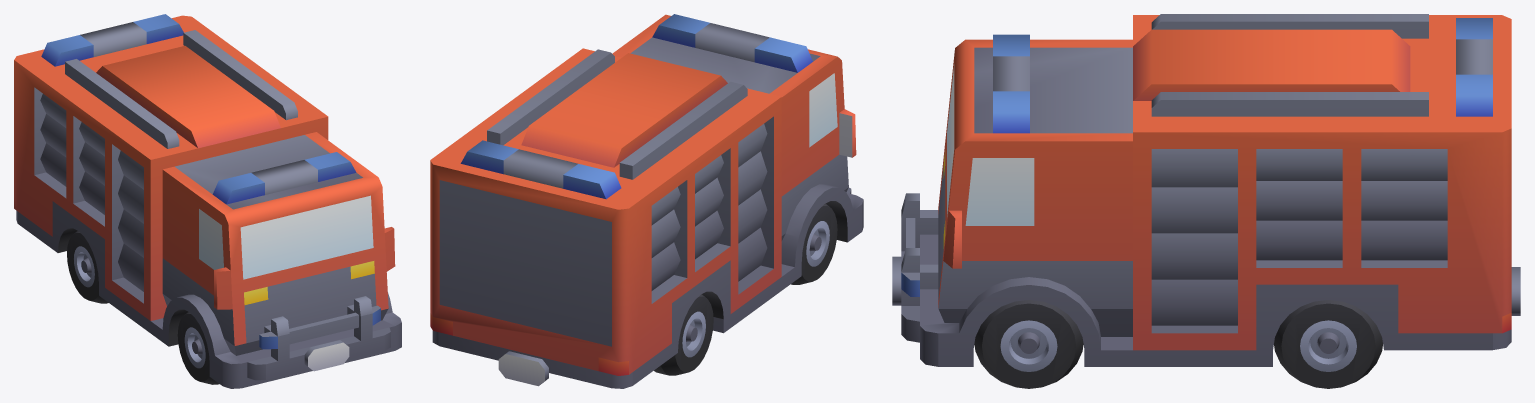
Rendered from firetruck.fbx.
The picture shows the model from 3 angles, left to right: view 1: azimuth 30°, elevation 25°; view 2: azimuth 150°, elevation 25°; view 3: azimuth 270°, elevation 25°; orthographic projection. The views are drawn at different scales.
Parts seen in each view (by area): view 1: body, grill, wheel-front-right, wheel-back-right; view 2: body, wheel-back-right, wheel-front-right; view 3: body, wheel-front-left, wheel-back-left, grill.
Part boxes in pixels (<box>): body: <box>14,14,401,388</box>; grill: <box>247,296,390,380</box>; wheel-front-right: <box>177,312,219,384</box>; wheel-back-right: <box>67,230,108,303</box>; body: <box>430,14,863,388</box>; wheel-back-right: <box>654,294,713,375</box>; wheel-front-right: <box>791,203,837,284</box>; body: <box>920,14,1520,366</box>; wheel-front-left: <box>974,300,1083,388</box>; wheel-back-left: <box>1274,300,1382,388</box>; grill: <box>892,193,938,342</box>.
Bounding box in the file's own units: 150 × 170 × 340.
1 material, 1 textured.
